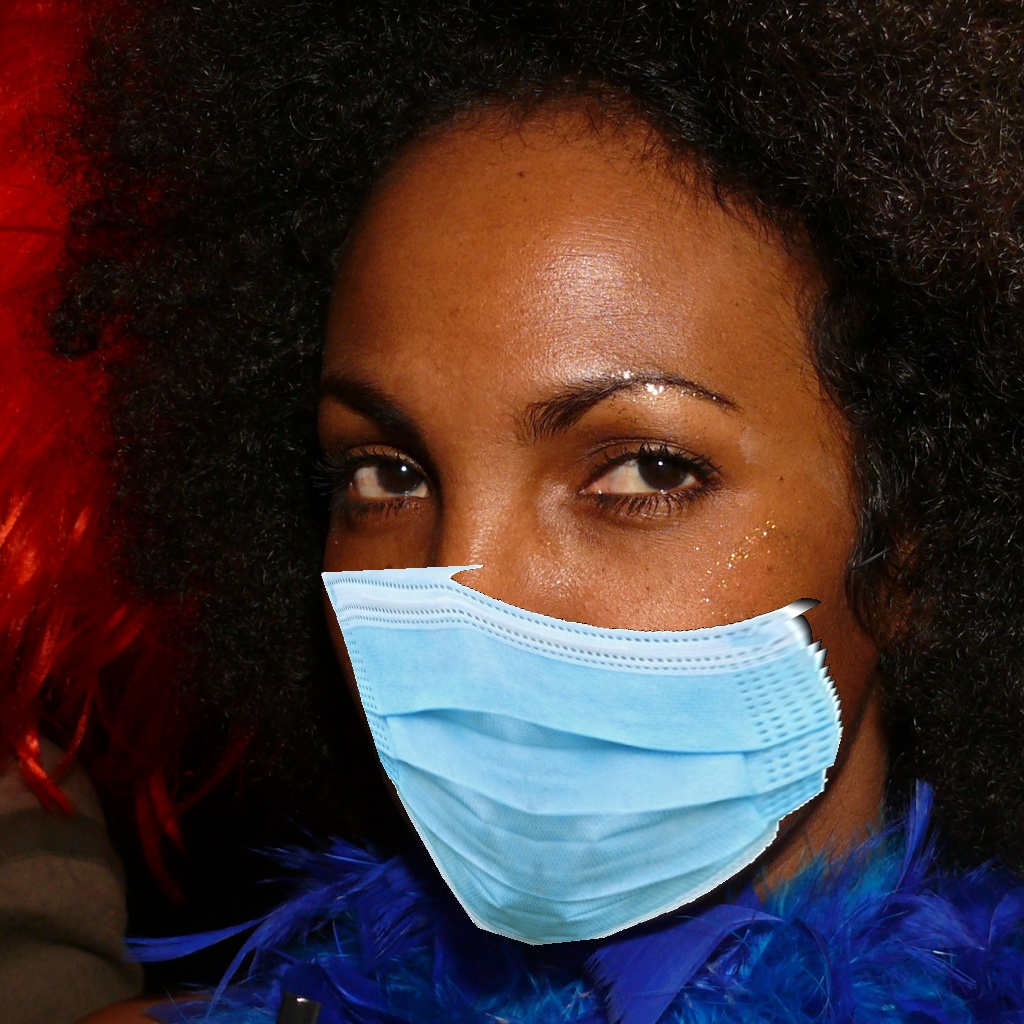Mask: (315, 334, 865, 954)
